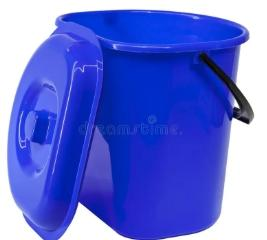SEAU: (6, 4, 267, 240)
